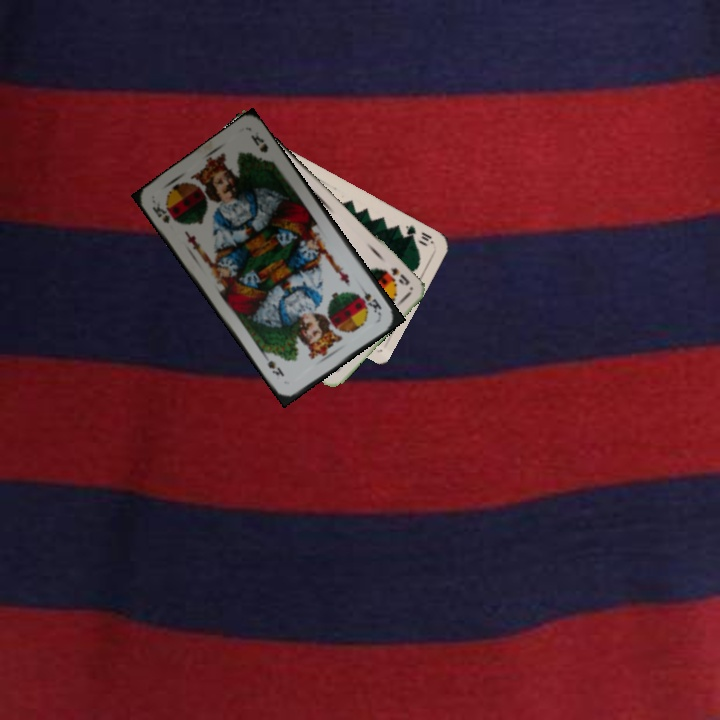G10: (401, 221, 436, 246)
SK: (356, 281, 384, 318), (148, 199, 179, 226)
SO: (386, 264, 412, 288)
